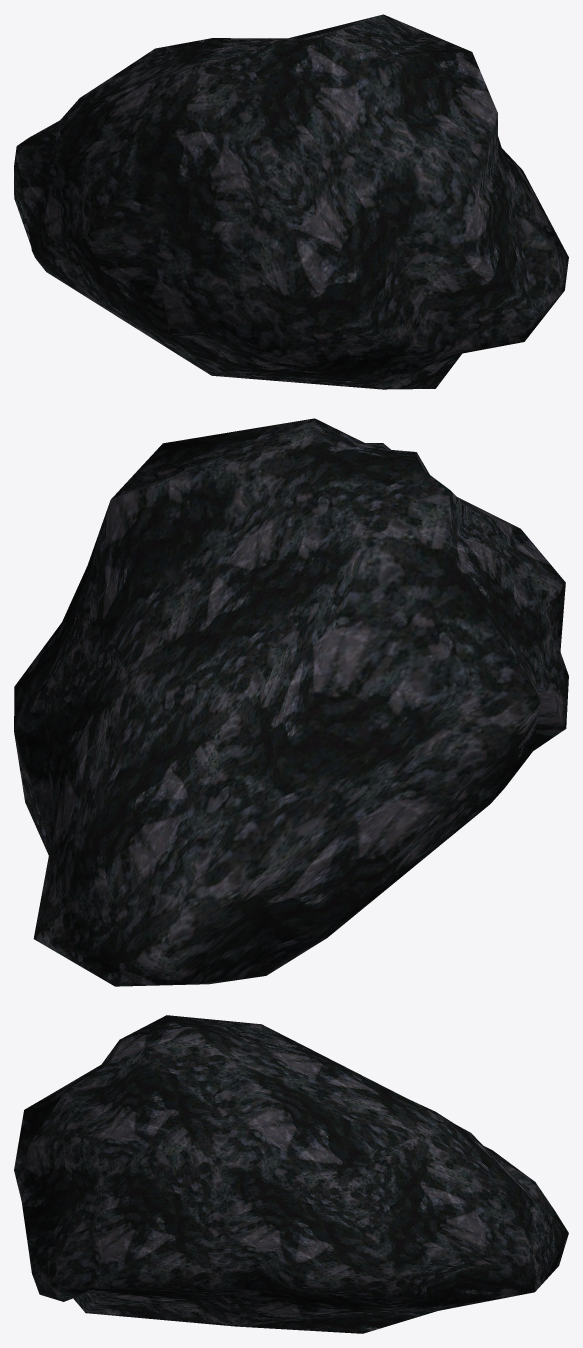
File: asteroid_obsidian_large_s01_l2.fbx
3 views of the same model, one above another, from view 1: azimuth 30°, elevation 25°; view 2: azimuth 150°, elevation 25°; view 3: azimuth 270°, elevation 25° (orthographic). The views are drawn at different scales.
Parts seen in each view (by area): view 1: mesh_node; view 2: mesh_node; view 3: mesh_node.
Boxes of the visible parts, x1,y1,x2,y2 form: mesh_node: (14,14,568,389); mesh_node: (14,418,568,986); mesh_node: (14,1015,568,1333).
Bounding box in the file's own units: 105 × 83.02 × 147.
Materials: 1 (1 with a texture image).
